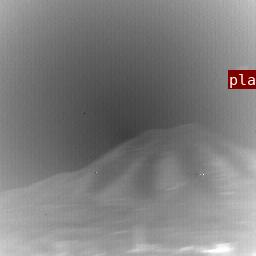plane: (228, 70, 251, 81)
